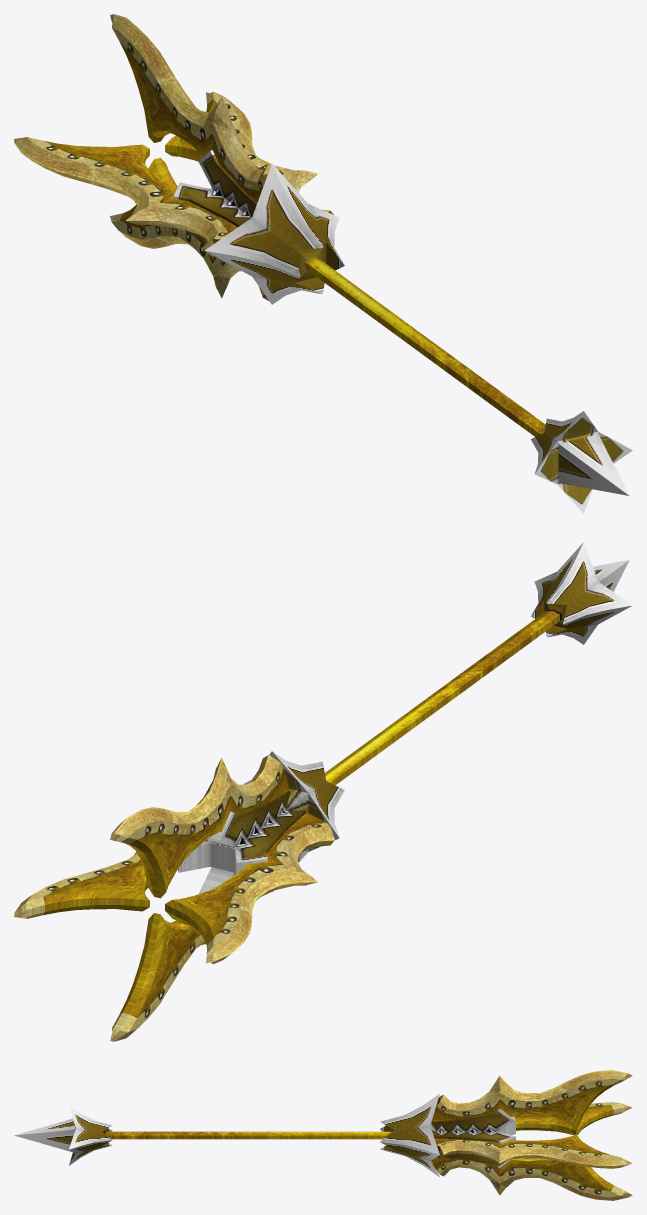
Rendered from wand_gold_sharp_iron_wand_gold_sharp_iron_wand_s.glb.
3 views of the same model, one above another, from view 1: azimuth 30°, elevation 25°; view 2: azimuth 150°, elevation 25°; view 3: azimuth 270°, elevation 25° (orthographic). The views are drawn at different scales.
Bounding box in the file's own units: 0.5269 × 0.5269 × 2.26.
Materials: 1 (1 with a texture image).
